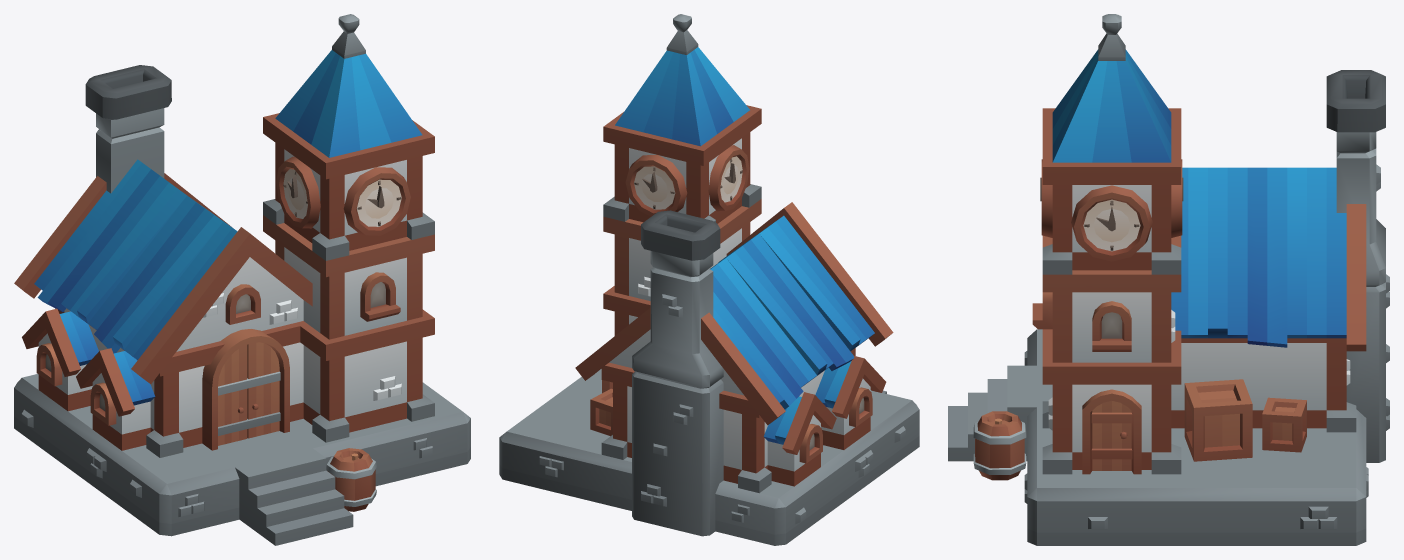
The model's file is building_townhall_blue.glb.
3 renders of one model, left to right at view 1: azimuth 30°, elevation 25°; view 2: azimuth 150°, elevation 25°; view 3: azimuth 270°, elevation 25°, orthographic. The views are drawn at different scales.
Parts seen in each view (by area): view 1: building_townhall_blue; view 2: building_townhall_blue; view 3: building_townhall_blue.
Part boxes in pixels (left/top/right/bottom): building_townhall_blue: left=14, top=14, right=470, bottom=545; building_townhall_blue: left=499, top=14, right=919, bottom=545; building_townhall_blue: left=948, top=14, right=1389, bottom=545.
Bounding box in the file's own units: 1.43 × 1.89 × 1.56.
1 material, 1 textured.
